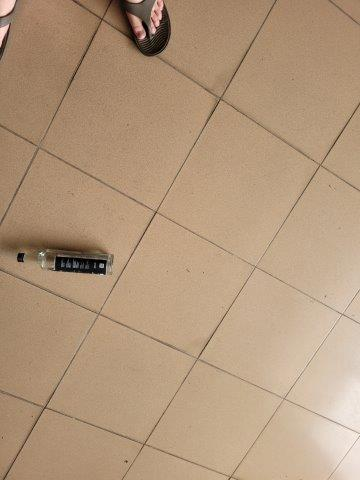botolkaca: (18, 249, 116, 277)
